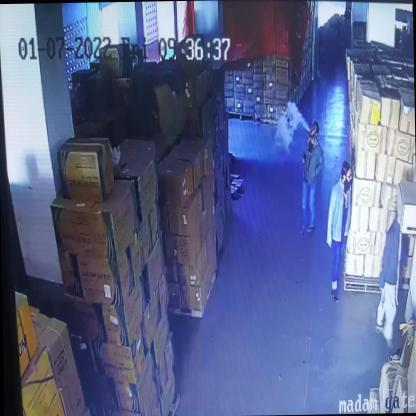smoke: (276, 95, 308, 153)
